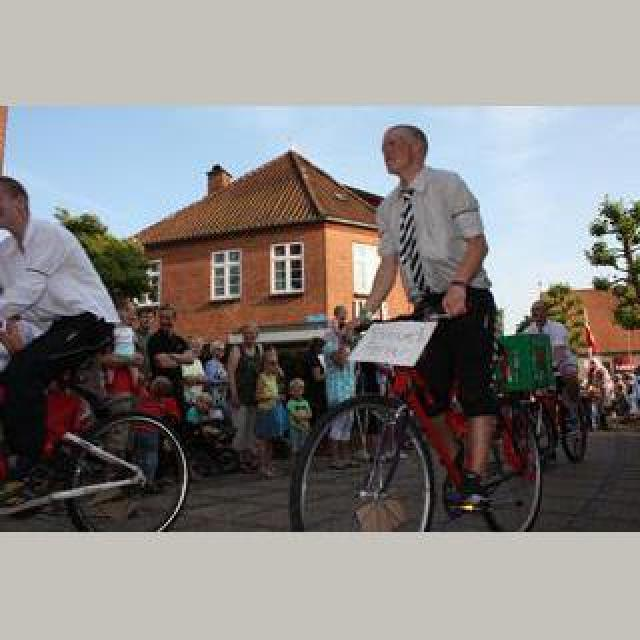MC-Bike: (348, 122, 504, 518), (0, 174, 120, 494), (518, 300, 580, 454), (138, 304, 198, 396), (228, 324, 264, 464), (252, 344, 288, 478), (286, 380, 314, 460)
Person: (300, 354, 542, 532), (2, 346, 184, 528)
